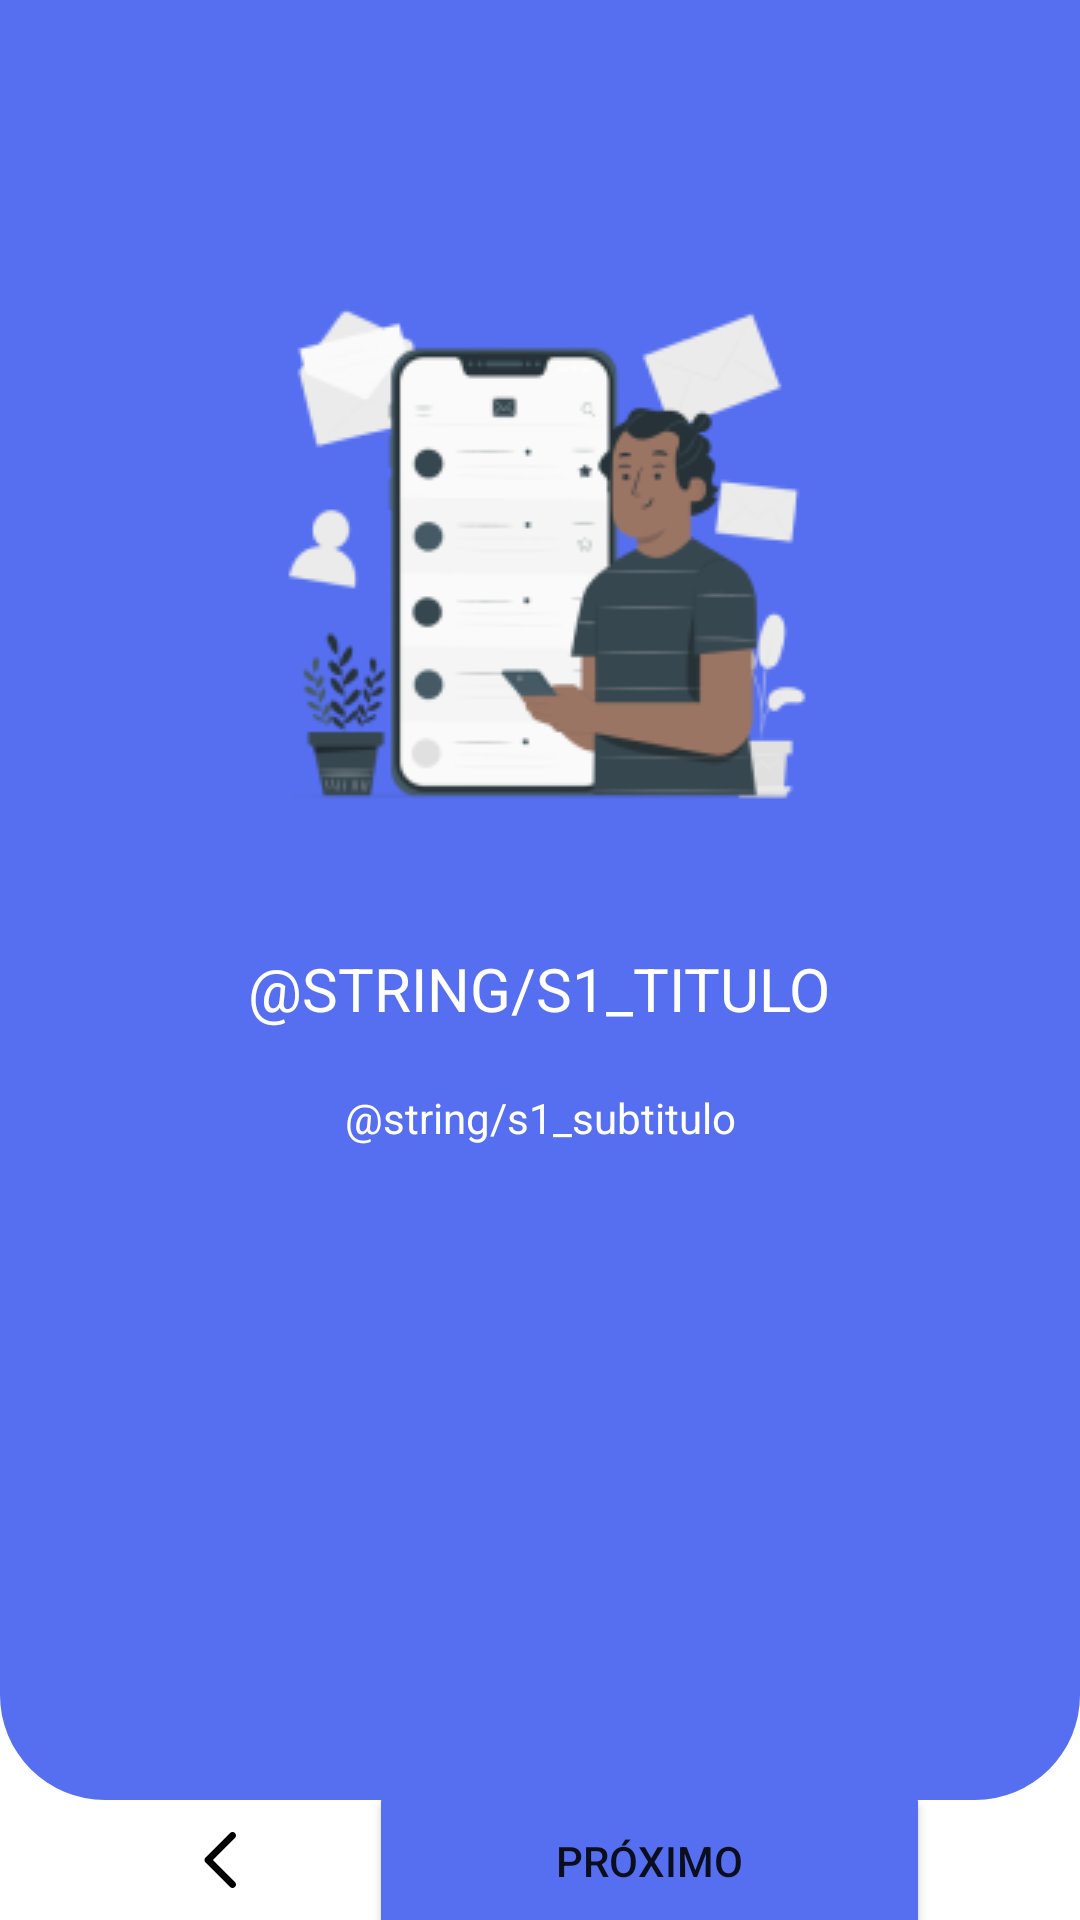

Named icons in this screenshot (1080w x 1920h) and their bounding boxes, (x1, y1, x2, y2):
chevron left: (204, 1832, 236, 1888)
